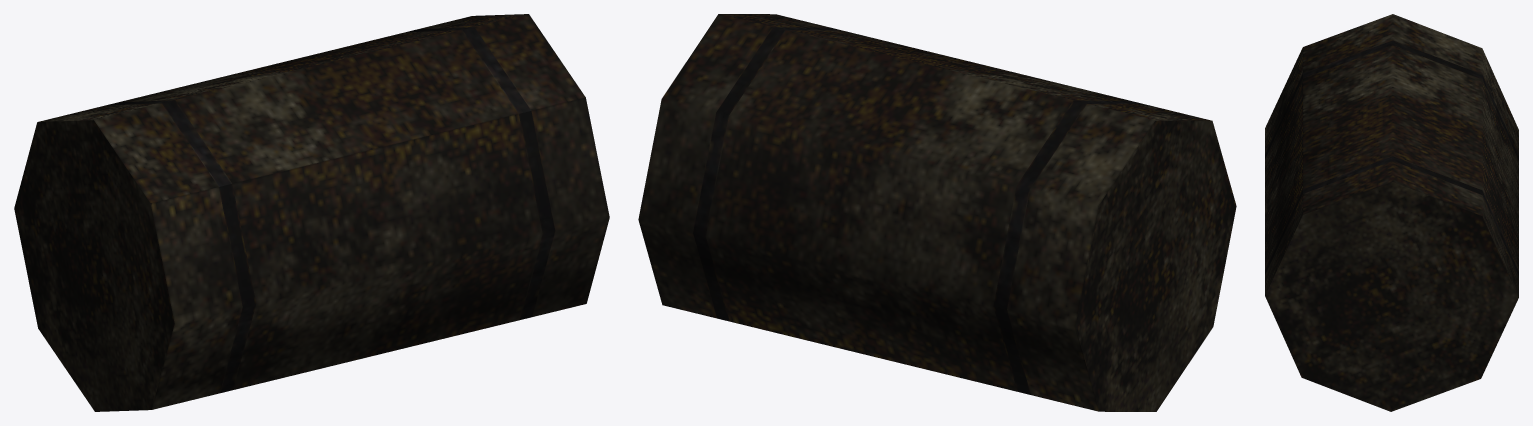
The model's file is SM_EC_Horror_Hay_11.fbx.
3 renders of one model, left to right at view 1: azimuth 30°, elevation 25°; view 2: azimuth 150°, elevation 25°; view 3: azimuth 270°, elevation 25°, orthographic. The views are drawn at different scales.
Parts seen in each view (by area): view 1: SM_EC_Horror_Hay_11; view 2: SM_EC_Horror_Hay_11; view 3: SM_EC_Horror_Hay_11.
Part boxes in pixels (left/top/right/bottom): SM_EC_Horror_Hay_11: left=14, top=14, right=609, bottom=411; SM_EC_Horror_Hay_11: left=638, top=14, right=1236, bottom=411; SM_EC_Horror_Hay_11: left=1265, top=14, right=1518, bottom=411.
Size of the model in its own units: 2.5 by 1.6 by 1.6.
